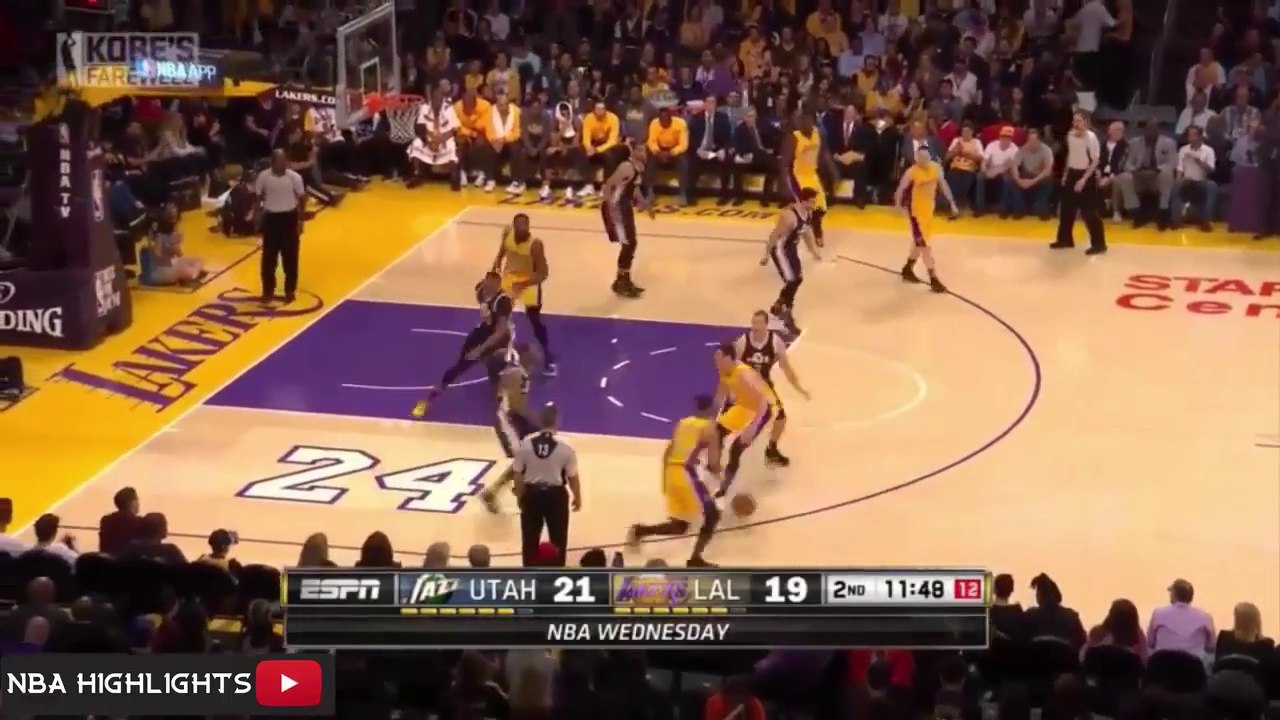jazz: (421, 270, 511, 412), (738, 309, 798, 450), (490, 344, 541, 505), (771, 189, 825, 333), (604, 143, 652, 295)
lakers: (636, 395, 722, 564), (890, 145, 956, 292), (714, 349, 778, 499), (501, 205, 547, 364), (787, 113, 834, 261)
